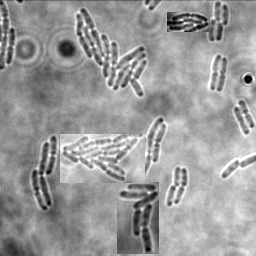Dividing: (175, 167, 189, 204), (238, 99, 255, 128), (209, 54, 222, 90), (217, 56, 228, 92), (7, 27, 17, 64)
Microcolony: (76, 7, 147, 98), (60, 134, 145, 183), (117, 182, 159, 254), (137, 117, 168, 180), (32, 135, 57, 211), (208, 1, 229, 42), (167, 12, 210, 32)
Rod: (233, 106, 251, 135), (222, 157, 240, 178), (167, 184, 177, 206), (174, 166, 183, 187)
